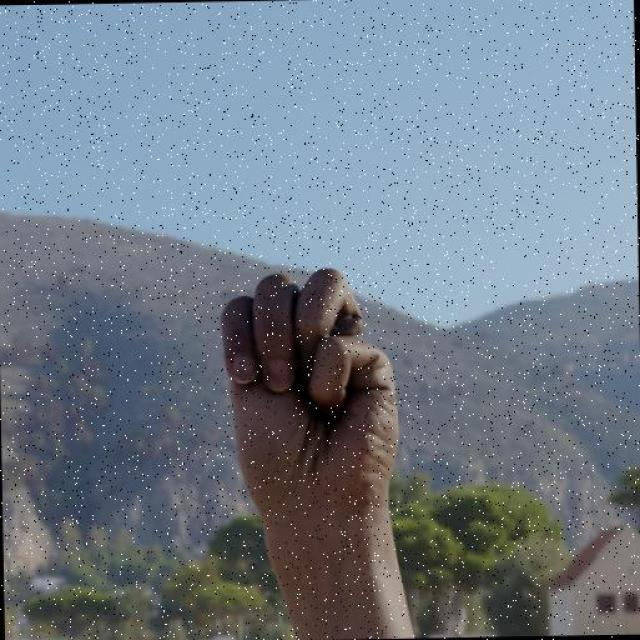M: (217, 264, 404, 520)
